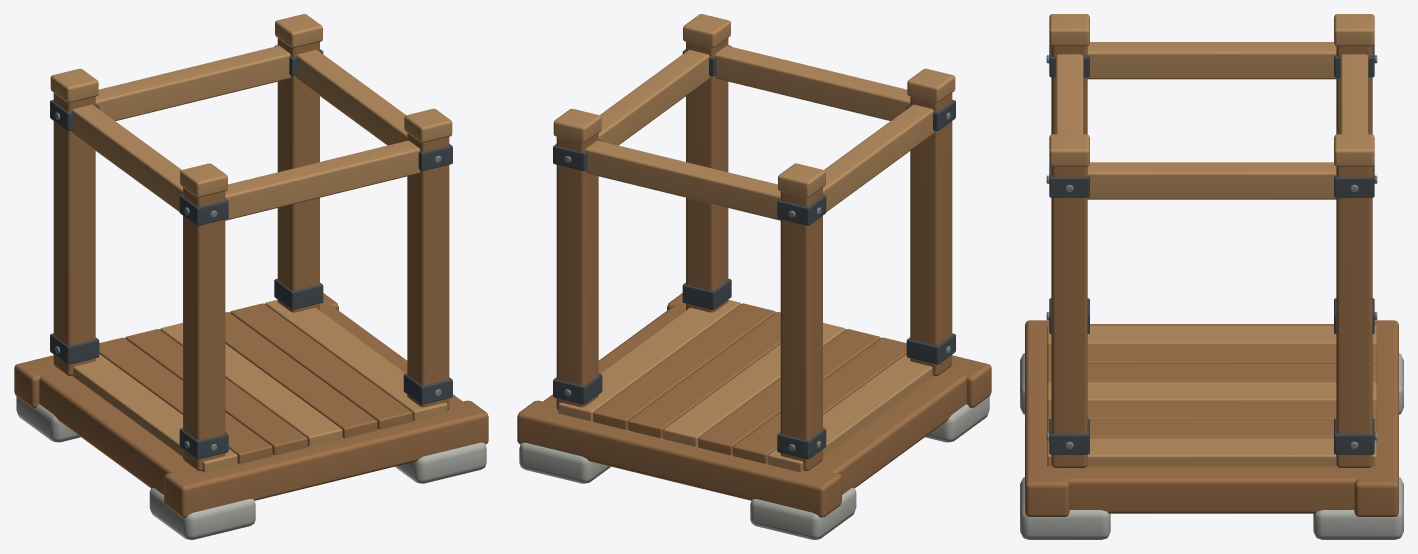
The model's file is tower_stage_frame.glb.
The picture shows the model from 3 angles, left to right: view 1: azimuth 30°, elevation 25°; view 2: azimuth 150°, elevation 25°; view 3: azimuth 270°, elevation 25°; orthographic projection. The views are drawn at different scales.
Visible parts, largest first — view 1: base_beam_front, post_LF, post_RF, post_LB, post_RB, base_beam_left, upper_beam_front, upper_beam_back, deck_plank_05, deck_plank_04, upper_beam_left, deck_plank_00 (+20 smaller); view 2: base_beam_back, post_LB, post_RB, post_LF, post_RF, base_beam_left, upper_beam_back, upper_beam_front, deck_plank_05, deck_plank_04, upper_beam_left, deck_plank_00 (+20 smaller); view 3: base_beam_right, post_RB, post_RF, upper_beam_left, upper_beam_right, deck_plank_06, base_beam_back, base_beam_front, deck_plank_04, deck_plank_00, deck_plank_05, deck_plank_01 (+17 smaller).
Part boxes in pixels (bbox=[...]): base_beam_front: bbox=[164, 400, 488, 517]; post_LF: bbox=[183, 187, 225, 470]; post_RF: bbox=[407, 133, 449, 409]; post_LB: bbox=[53, 93, 95, 376]; post_RB: bbox=[277, 38, 319, 312]; base_beam_left: bbox=[39, 365, 201, 494]; upper_beam_front: bbox=[225, 140, 420, 220]; upper_beam_back: bbox=[95, 45, 290, 120]; deck_plank_05: bbox=[230, 303, 412, 429]; deck_plank_04: bbox=[225, 312, 377, 438]; upper_beam_left: bbox=[72, 104, 182, 211]; deck_plank_00: bbox=[72, 354, 237, 472]; base_beam_back: bbox=[517, 400, 841, 517]; post_LB: bbox=[780, 187, 822, 470]; post_RB: bbox=[556, 133, 598, 409]; post_LF: bbox=[910, 93, 952, 376]; post_RF: bbox=[686, 38, 728, 312]; base_beam_left: bbox=[804, 366, 968, 494]; upper_beam_back: bbox=[585, 140, 780, 220]; upper_beam_front: bbox=[715, 45, 910, 120]; deck_plank_05: bbox=[593, 303, 775, 429]; deck_plank_04: bbox=[628, 312, 780, 438]; upper_beam_left: bbox=[823, 104, 933, 211]; deck_plank_00: bbox=[768, 354, 933, 472]; base_beam_right: bbox=[1053, 466, 1370, 513]; post_RB: bbox=[1336, 166, 1372, 467]; post_RF: bbox=[1051, 166, 1087, 467]; upper_beam_left: bbox=[1087, 42, 1336, 79]; upper_beam_right: bbox=[1087, 162, 1336, 199]; deck_plank_06: bbox=[1047, 438, 1376, 466]; base_beam_back: bbox=[1354, 320, 1398, 516]; base_beam_front: bbox=[1025, 320, 1069, 516]; deck_plank_04: bbox=[1047, 400, 1376, 420]; deck_plank_00: bbox=[1047, 325, 1376, 345]; deck_plank_05: bbox=[1047, 419, 1376, 438]; deck_plank_01: bbox=[1047, 344, 1376, 363].
Bounding box in the file's own units: 2.8 × 3.01 × 2.75.
